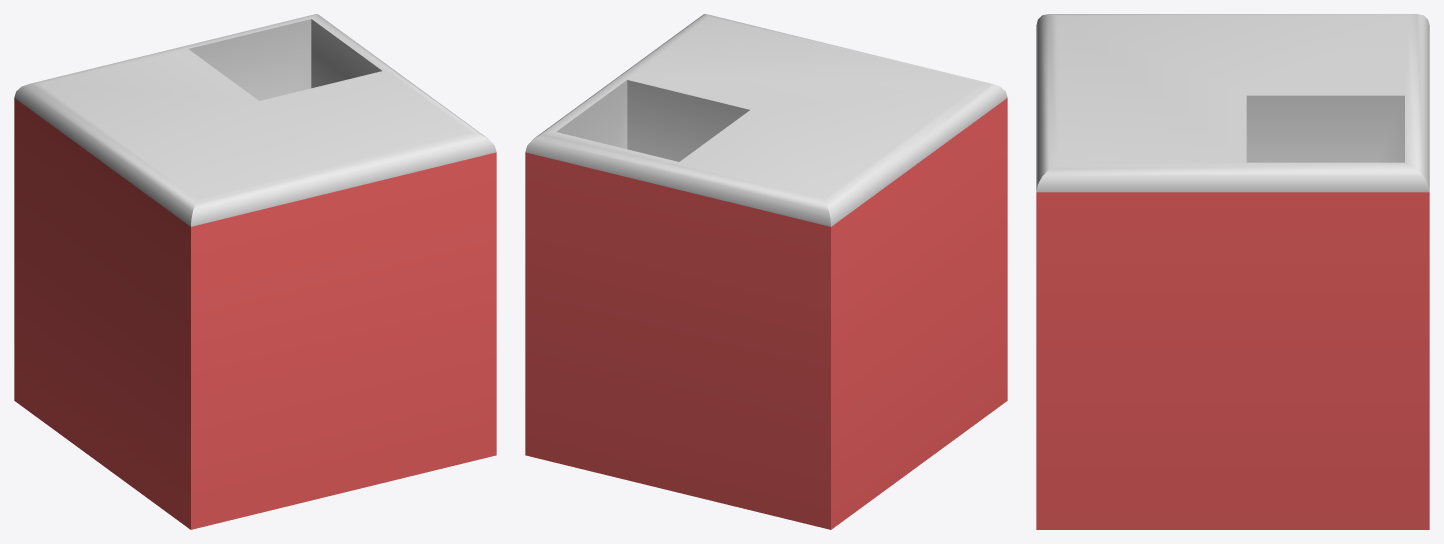
File: CubeForTile_04.1_Hole_2_Corner.fbx
The picture shows the model from 3 angles, left to right: view 1: azimuth 30°, elevation 25°; view 2: azimuth 150°, elevation 25°; view 3: azimuth 270°, elevation 25°; orthographic projection. The views are drawn at different scales.
Visible parts, largest first — view 1: CubeForTile_04.1_Hole_Corner; view 2: CubeForTile_04.1_Hole_Corner; view 3: CubeForTile_04.1_Hole_Corner.
Part boxes in pixels (x1=…): CubeForTile_04.1_Hole_Corner: x1=14, y1=14, x2=496, y2=529; CubeForTile_04.1_Hole_Corner: x1=525, y1=14, x2=1007, y2=529; CubeForTile_04.1_Hole_Corner: x1=1036, y1=14, x2=1429, y2=529.
Size of the model in its own units: 1000 by 1000 by 1000.
